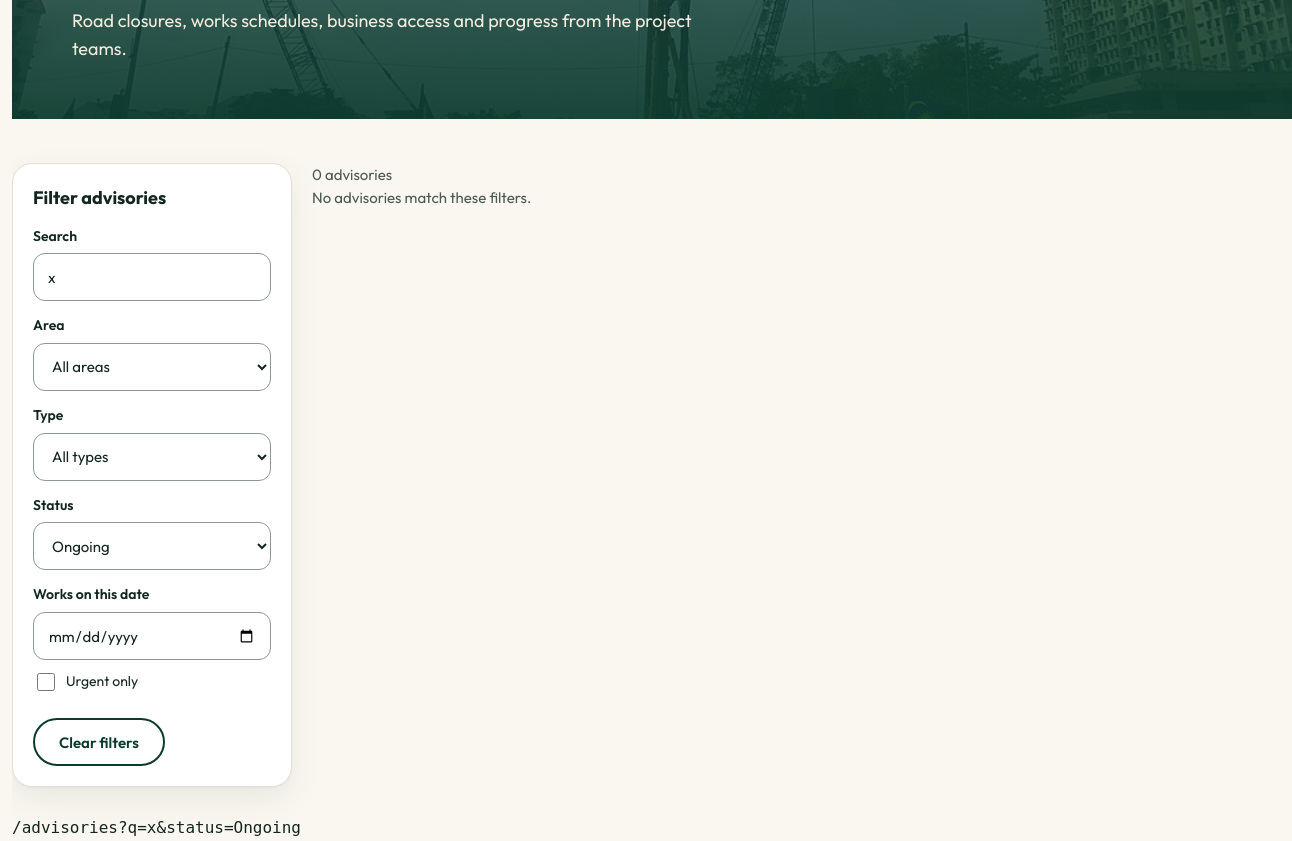
Advisories page (UC03) › Clear filters empties every filter
This screenshot has width=1292, height=841.
(page scrolled)
Click the button "Clear filters".
click(99, 742)  # box [33,718,165,766]
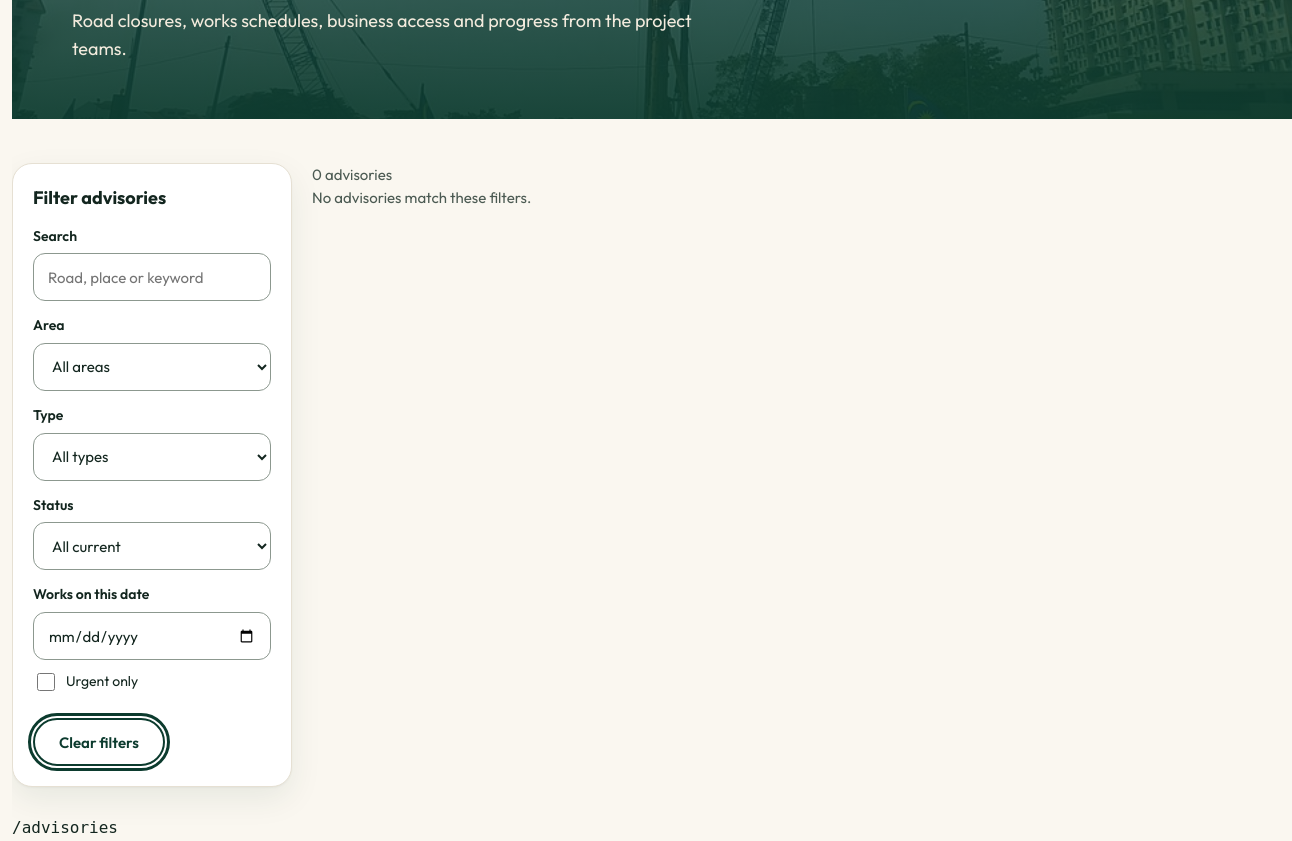
Check: the text with test id "where" reads "/advisories", box [12,818,118,837]
Check: the search field labelled "Search" is empty, box [33,253,271,301]
